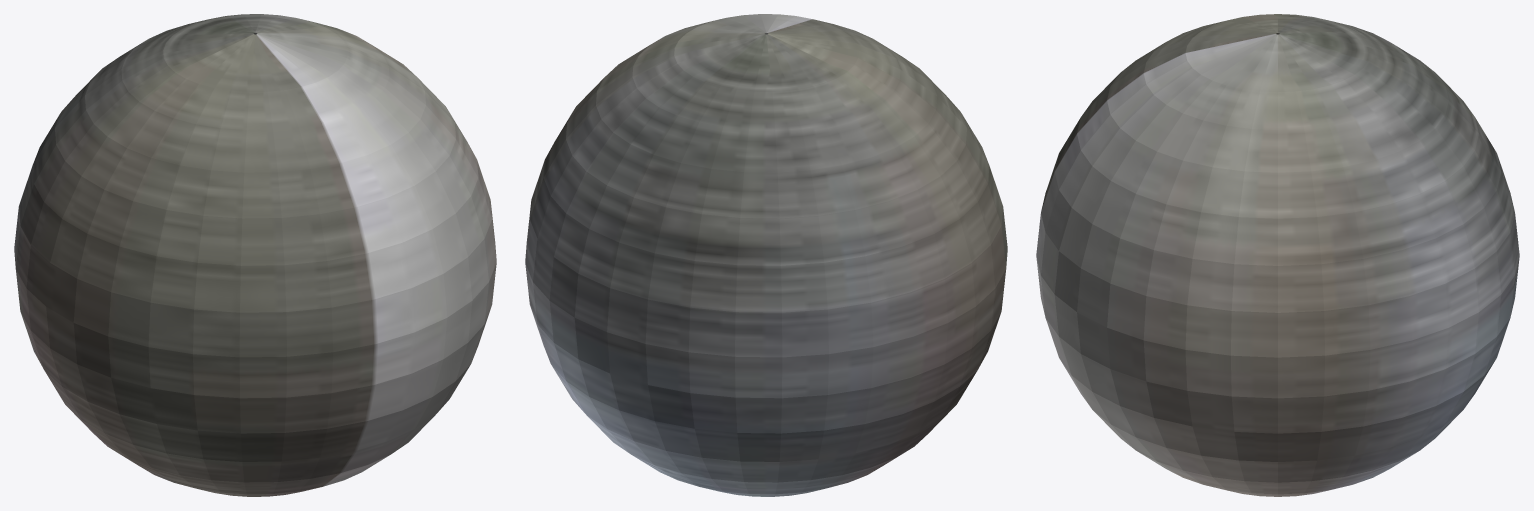
Rendered from ball.obj.
3 renders of one model, left to right at view 1: azimuth 30°, elevation 25°; view 2: azimuth 150°, elevation 25°; view 3: azimuth 270°, elevation 25°, orthographic.
Parts seen in each view (by area): view 1: Sphere; view 2: Sphere; view 3: Sphere.
Boxes of the visible parts, x1=… form: Sphere: x1=14, y1=14, x2=496, y2=496; Sphere: x1=525, y1=14, x2=1007, y2=496; Sphere: x1=1036, y1=14, x2=1519, y2=496.
Bounding box in the file's own units: 1 × 1.01 × 1.
1 material, 1 textured.
